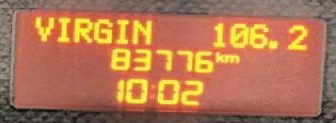-: (266, 38, 277, 49)
0: (156, 76, 178, 105), (124, 77, 146, 104), (228, 21, 248, 49)
1: (209, 19, 228, 48), (112, 77, 123, 102)
2: (283, 23, 310, 51), (179, 78, 203, 105)
3: (131, 48, 151, 72)
6: (248, 21, 268, 49), (194, 48, 212, 74)
7: (153, 47, 174, 71), (174, 48, 192, 73)
8: (106, 47, 130, 70)
X: (129, 16, 153, 45), (32, 13, 54, 41), (93, 16, 112, 44), (73, 15, 91, 44), (53, 14, 71, 42), (113, 16, 128, 45), (222, 53, 240, 64), (147, 80, 156, 101), (213, 48, 222, 63)
